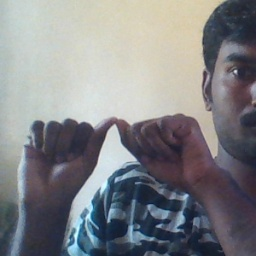A: (20, 110, 208, 195)
